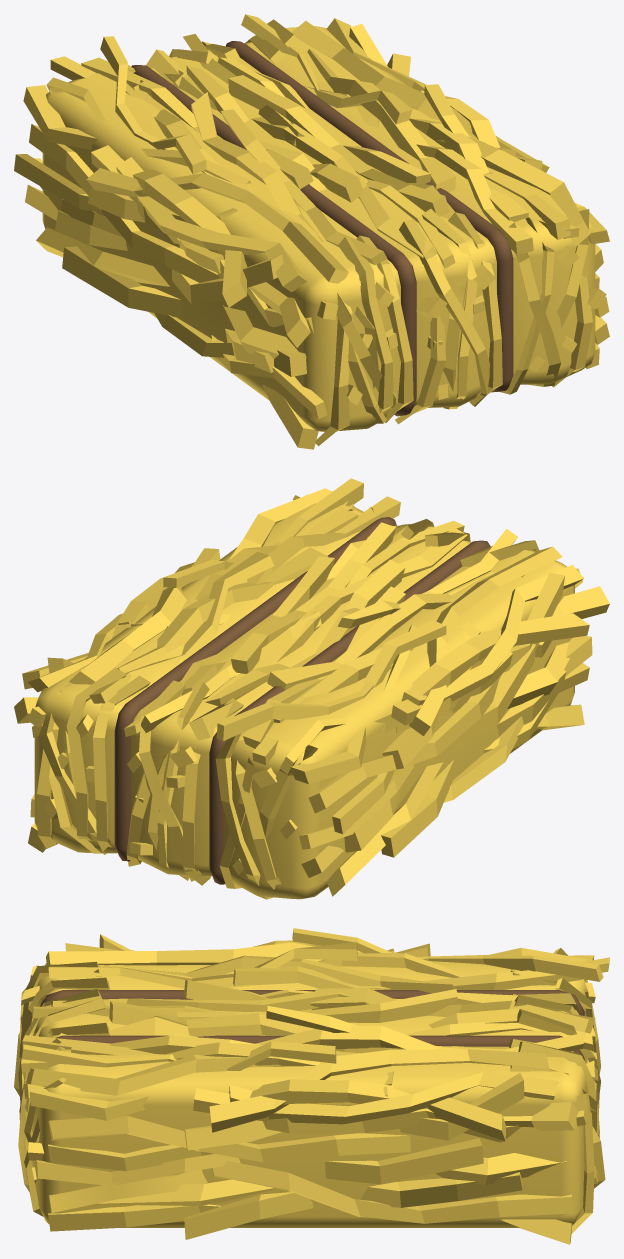
Rendered from hay.glb.
3 renders of one model, top to bottom at view 1: azimuth 30°, elevation 25°; view 2: azimuth 150°, elevation 25°; view 3: azimuth 270°, elevation 25°, orthographic. The views are drawn at different scales.
Visible parts, largest first — view 1: hay; view 2: hay; view 3: hay.
Boxes of the visible parts, x1,y1,x2,y2 form: hay: (14,14,609,449); hay: (14,478,609,899); hay: (14,928,609,1244).
Size of the model in its own units: 3.63 by 1.93 by 5.02.
